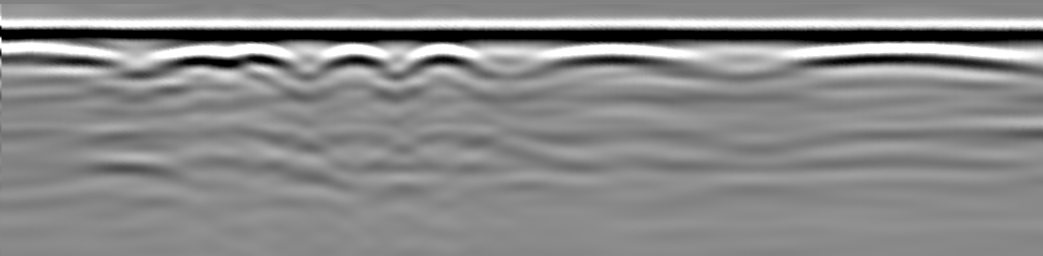steel: (798, 47, 1031, 68), (152, 44, 297, 70), (538, 46, 693, 68), (2, 41, 119, 67), (315, 44, 394, 70), (402, 44, 479, 69)
